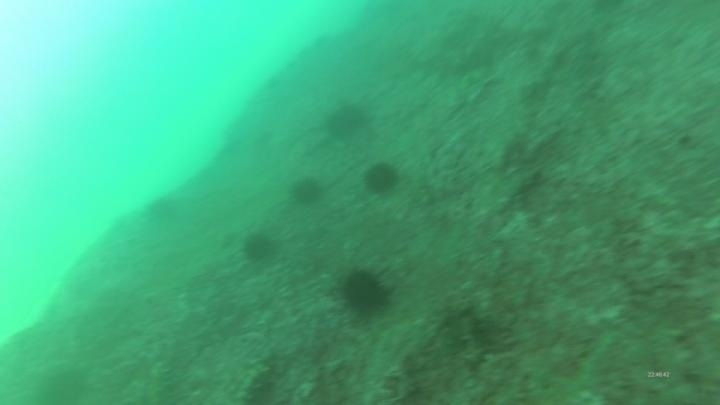echinus: (337, 265, 393, 319), (38, 364, 92, 404), (322, 99, 372, 142), (361, 159, 402, 197), (240, 229, 279, 264), (143, 193, 183, 226), (288, 174, 326, 207)
holothurian: (236, 353, 278, 405), (138, 353, 177, 405)
